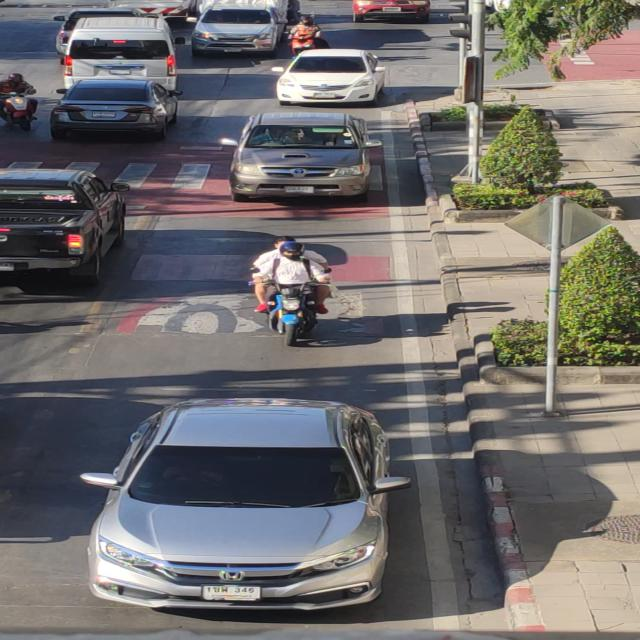car: (57, 390, 419, 610), (220, 109, 388, 215)
